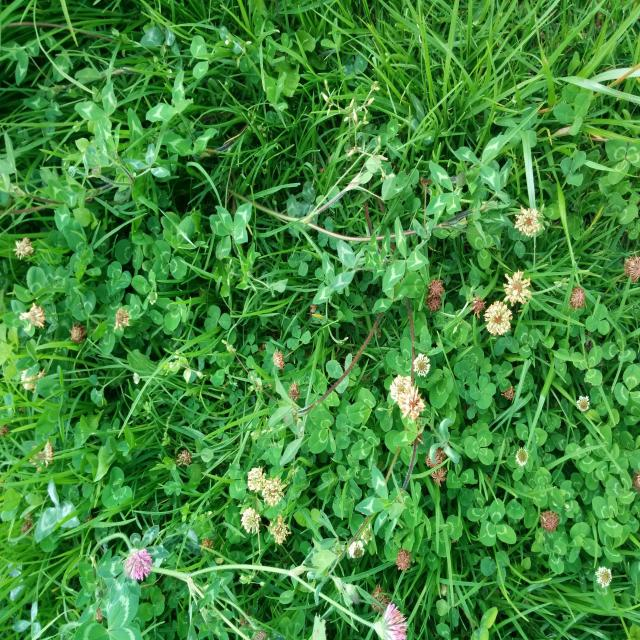Four Leaf Clover: (470, 375, 495, 409)
